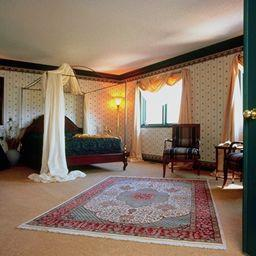Cama: (21, 112, 128, 174)
